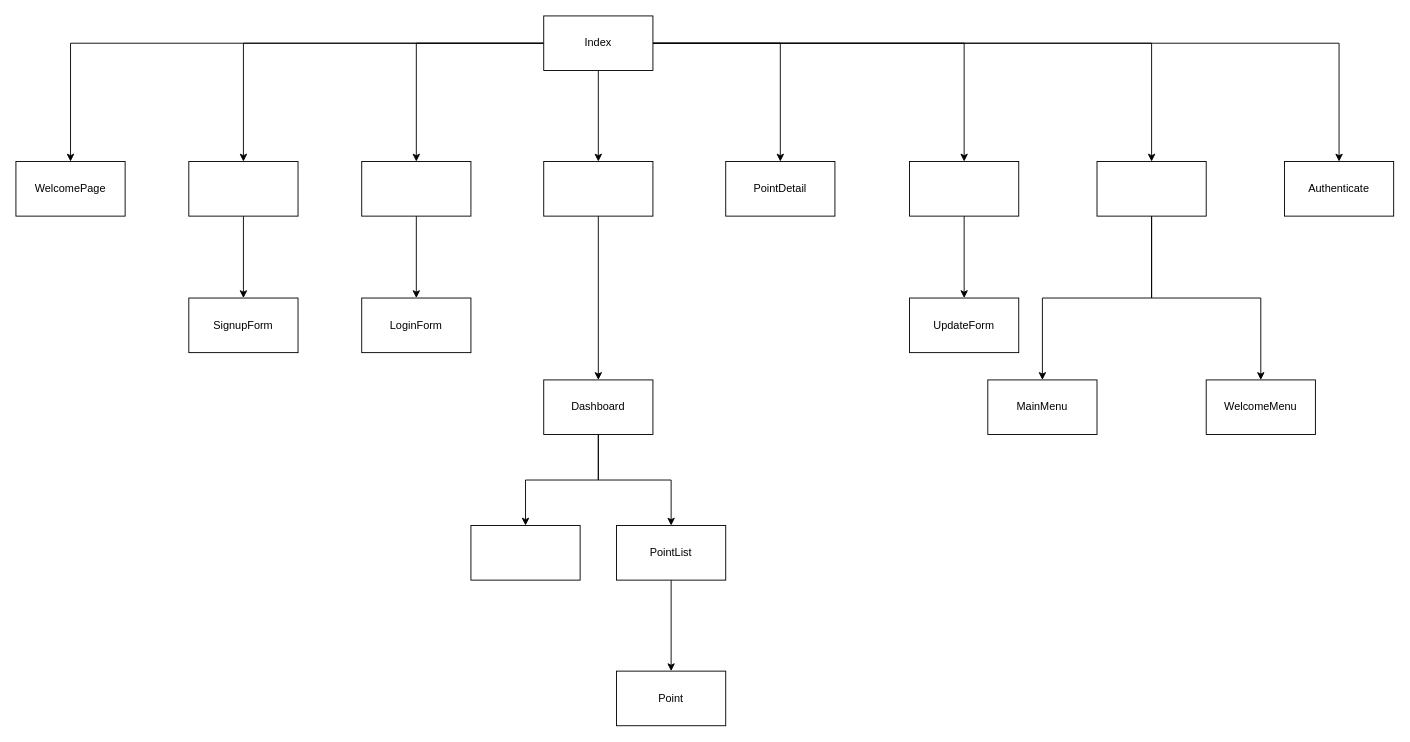
Image size: 1410x742. Some labels were removed from this diagram. The shapes that lost their labels are listed below. From the top down, each one's box as (x1, y1, x2, y2) in pixels, then its label:
(188, 161, 298, 216): SignupPage
(361, 161, 471, 216): LoginPage
(543, 161, 653, 216): App
(909, 161, 1019, 216): UpdatePoint
(1096, 161, 1206, 216): Navbar
(470, 525, 580, 580): PointForm
